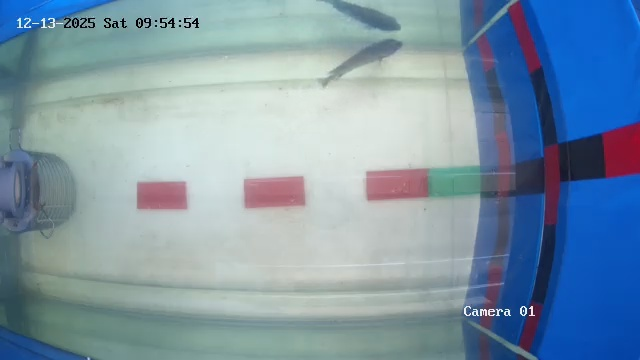fish: (318, 36, 420, 88)
